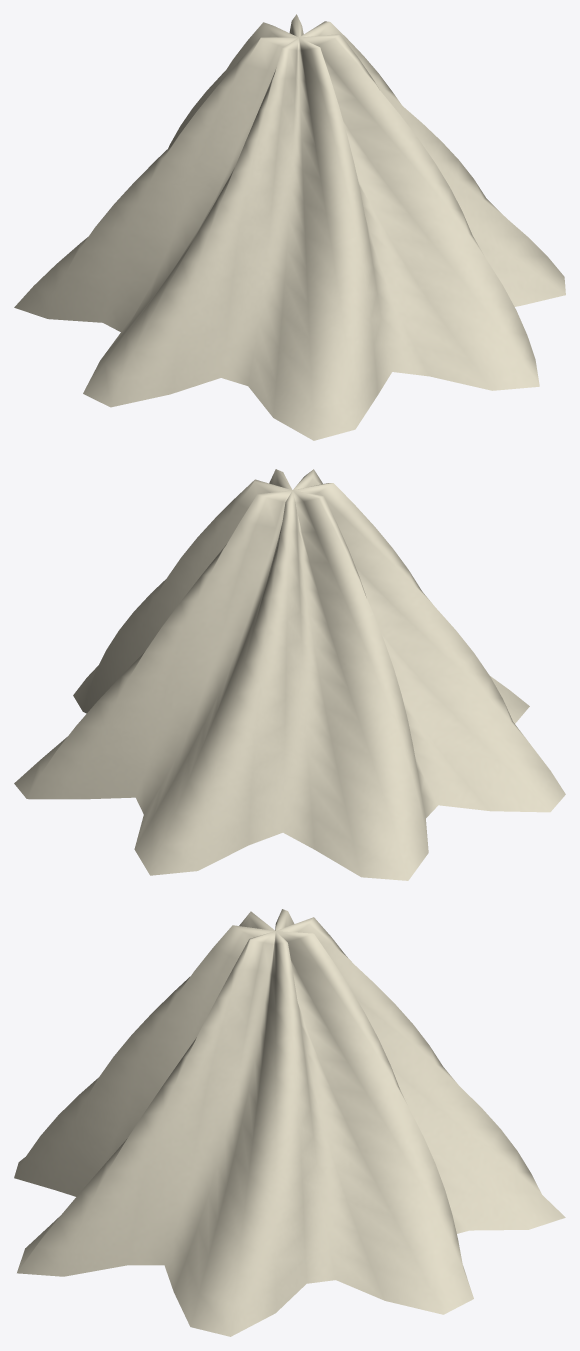
The model's file is PRP_Blanket_Draped.fbx.
3 views of the same model, one above another, from view 1: azimuth 30°, elevation 25°; view 2: azimuth 150°, elevation 25°; view 3: azimuth 270°, elevation 25° (orthographic).
Visible parts, largest first — view 1: PRP_Blanket_Draped; view 2: PRP_Blanket_Draped; view 3: PRP_Blanket_Draped.
Part boxes in pixels (x1,y1,x2,y2): PRP_Blanket_Draped: [14, 14, 565, 440]; PRP_Blanket_Draped: [14, 469, 565, 880]; PRP_Blanket_Draped: [14, 909, 565, 1336].
Size of the model in its own units: 35.21 by 20.2 by 34.55.
